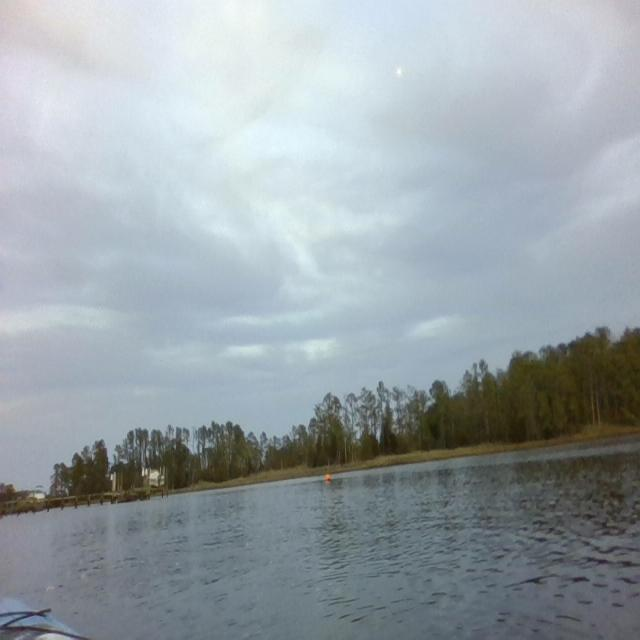Buoy: (325, 470, 332, 484)
